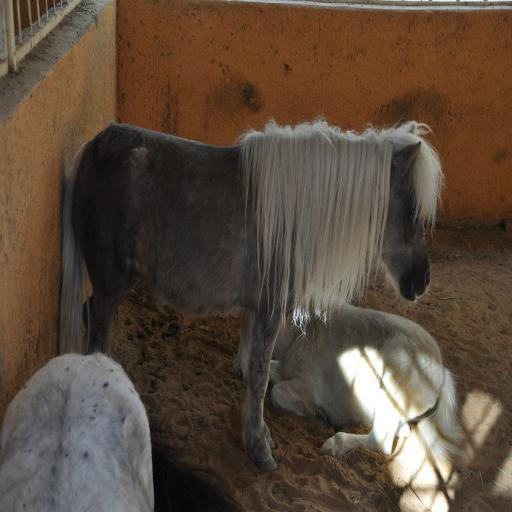horse: (58, 117, 448, 475), (267, 304, 460, 479), (0, 348, 155, 512)
